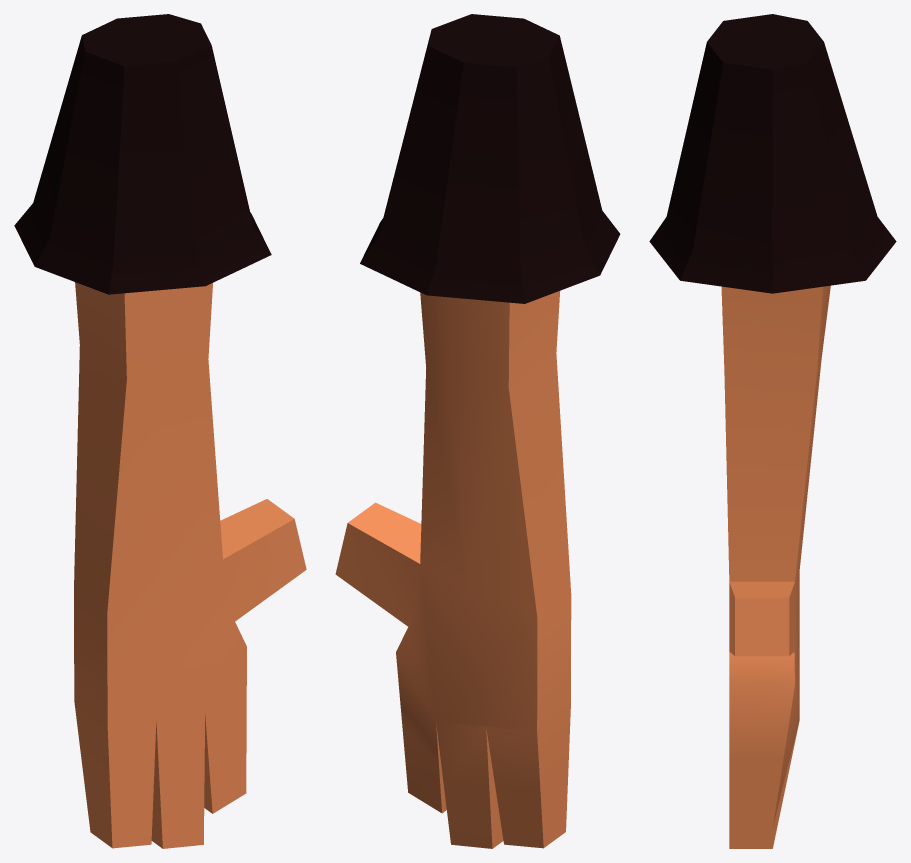
The picture shows the model from 3 angles, left to right: view 1: azimuth 30°, elevation 25°; view 2: azimuth 150°, elevation 25°; view 3: azimuth 270°, elevation 25°; orthographic projection. The views are drawn at different scales.
Parts seen in each view (by area): view 1: leftArm; view 2: leftArm; view 3: leftArm.
Part boxes in pixels (bbox=[...]): leftArm: bbox=[14, 14, 306, 848]; leftArm: bbox=[335, 14, 620, 848]; leftArm: bbox=[649, 14, 896, 848].
Size of the model in its own units: 1.55 by 4.69 by 1.33.
